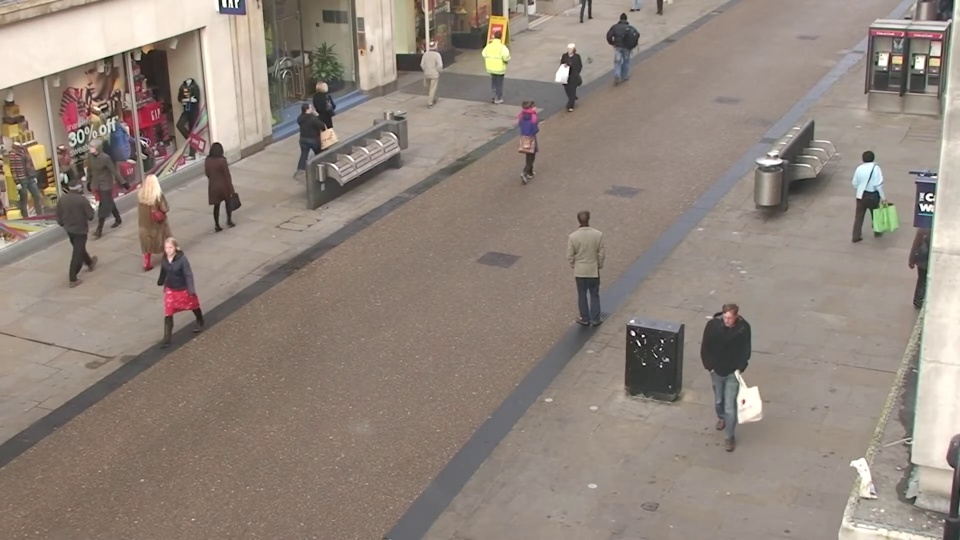pedestrian: (700, 303, 751, 448), (140, 234, 192, 359), (65, 169, 115, 277), (143, 162, 187, 267), (565, 203, 603, 324), (70, 138, 116, 237), (850, 144, 893, 249), (206, 137, 246, 236), (300, 94, 333, 182), (517, 90, 547, 179), (314, 79, 345, 163), (422, 37, 449, 110), (555, 41, 581, 116), (488, 26, 513, 97), (614, 5, 636, 71)
